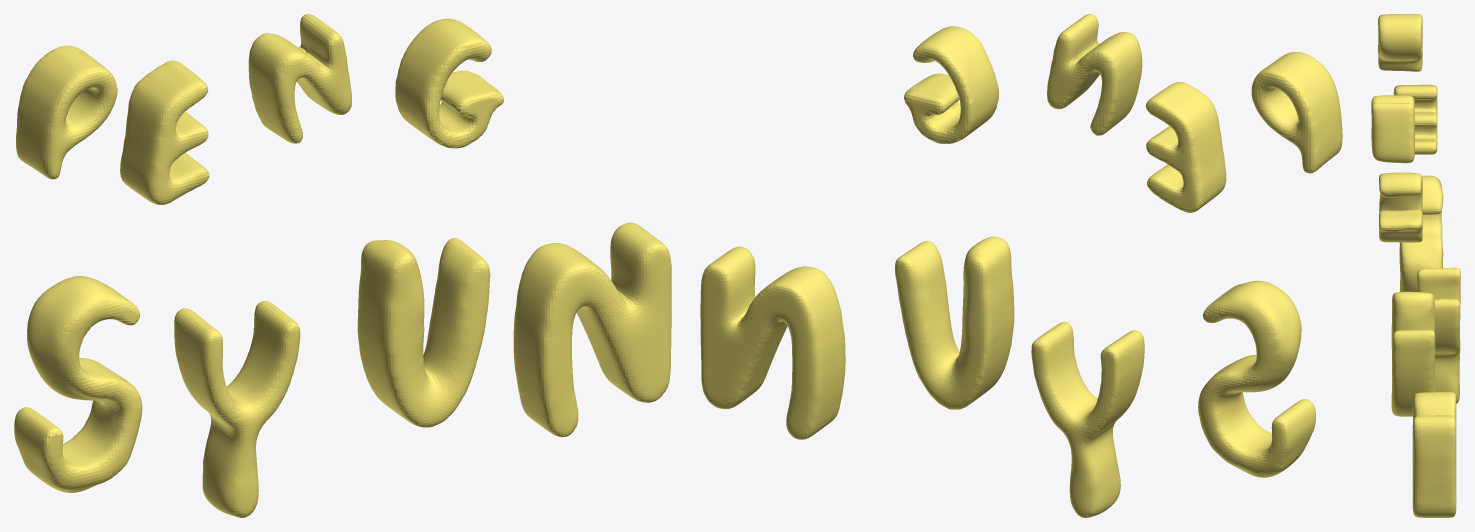
The model's file is hero-text.glb.
3 renders of one model, left to right at view 1: azimuth 30°, elevation 25°; view 2: azimuth 150°, elevation 25°; view 3: azimuth 270°, elevation 25°, orthographic. The views are drawn at different scales.
Parts seen in each view (by area): view 1: 立方體 ext 8; view 2: 立方體 ext 8; view 3: 立方體 ext 8.
Part boxes in pixels (x1=…): 立方體 ext 8: x1=14, y1=14, x2=671, y2=517; 立方體 ext 8: x1=700, y1=14, x2=1342, y2=517; 立方體 ext 8: x1=1371, y1=14, x2=1460, y2=517.
Bounding box in the file's own units: 2.27 × 1.71 × 0.4194.
